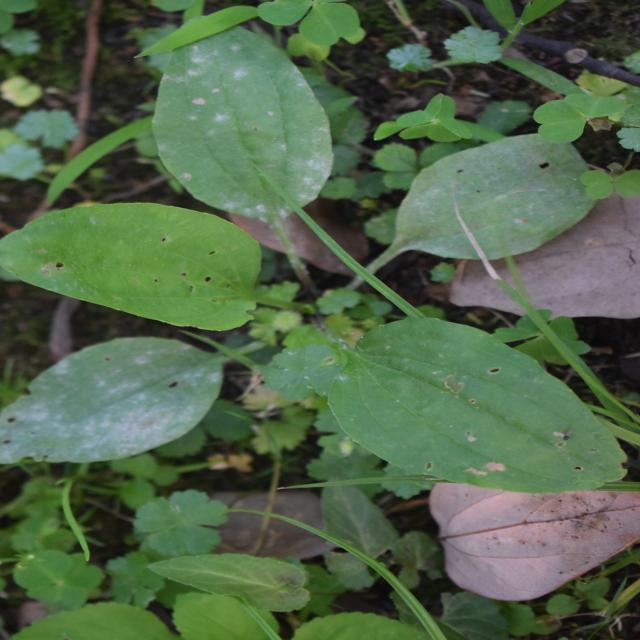plantain: (148, 0, 548, 567)
